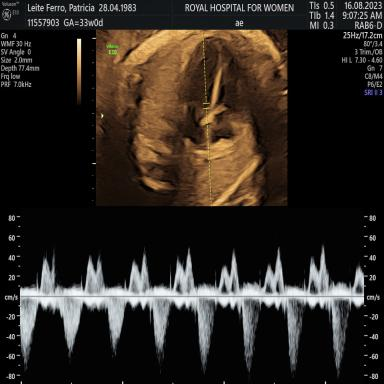Ultrasound-Waves: (25, 216, 362, 384)
